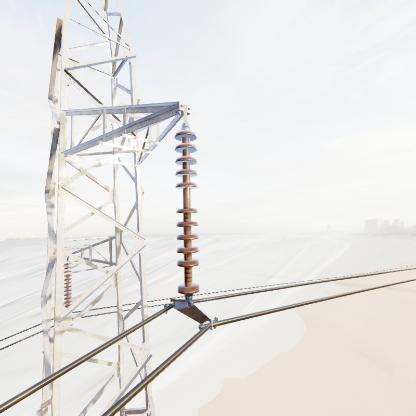insulator: (172, 125, 204, 304)
